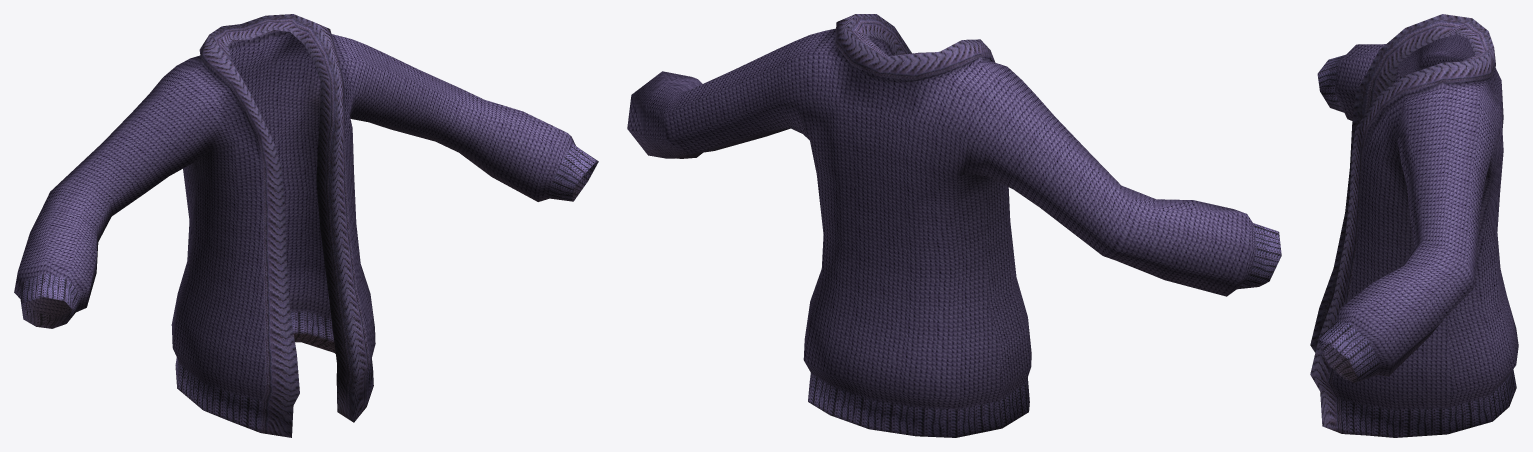
File: TPSweater.fbx
3 renders of one model, left to right at view 1: azimuth 30°, elevation 25°; view 2: azimuth 150°, elevation 25°; view 3: azimuth 270°, elevation 25°, orthographic. The views are drawn at different scales.
Parts seen in each view (by area): view 1: TPSweater; view 2: TPSweater; view 3: TPSweater.
Part boxes in pixels (x1=…): TPSweater: x1=14, y1=14, x2=598, y2=437; TPSweater: x1=627, y1=14, x2=1281, y2=437; TPSweater: x1=1310, y1=14, x2=1518, y2=437.
Size of the model in its own units: 96.2 by 56.48 by 28.67.
Materials: 1 (1 with a texture image).
